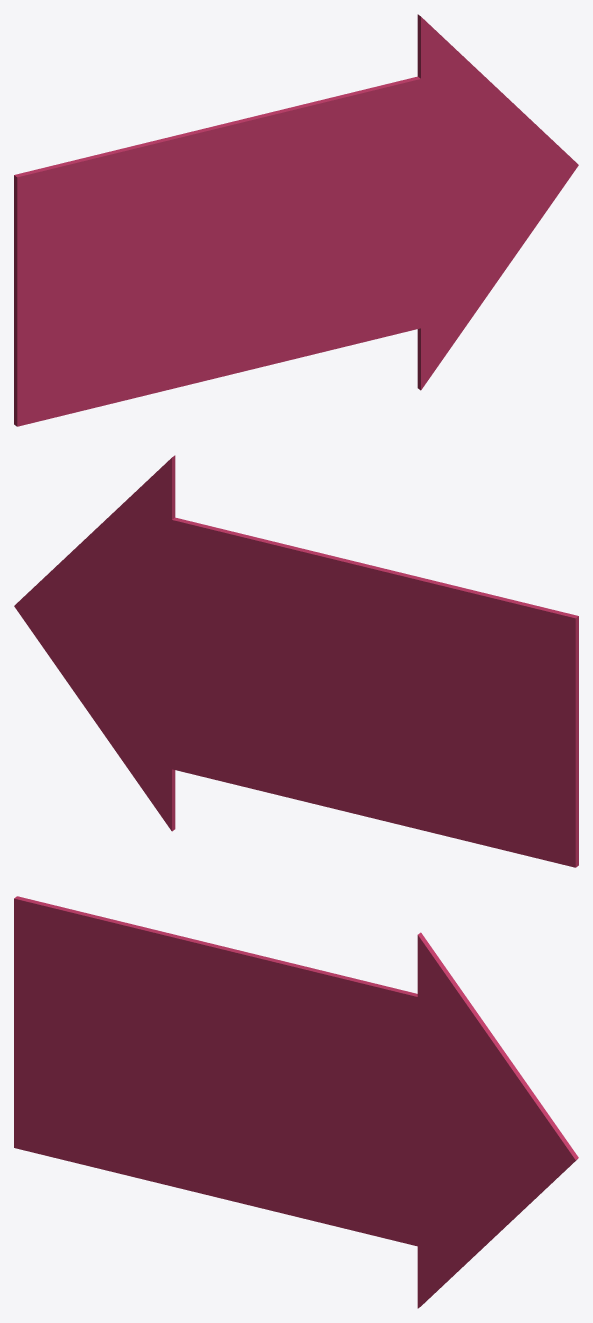
File: arrow.fbx
The picture shows the model from 3 angles, top to bottom: view 1: azimuth 30°, elevation 25°; view 2: azimuth 150°, elevation 25°; view 3: azimuth 330°, elevation 25°; orthographic projection.
Parts seen in each view (by area): view 1: Arrow; view 2: Arrow; view 3: Arrow.
Part boxes in pixels (<box>): Arrow: <box>14,14,578,426</box>; Arrow: <box>14,455,578,867</box>; Arrow: <box>14,896,578,1308</box>.
Bounding box in the file's own units: 100 × 63.64 × 1.
